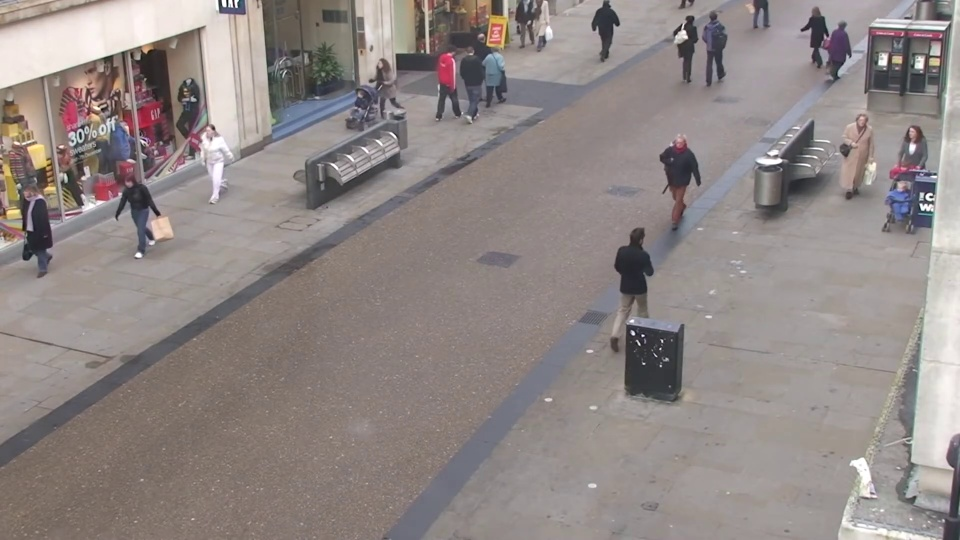pedestrian: (3, 180, 59, 291), (872, 176, 921, 290), (106, 171, 153, 279), (625, 211, 665, 334), (884, 123, 929, 223), (837, 112, 877, 209), (189, 120, 227, 214), (659, 131, 692, 231), (340, 86, 371, 172), (828, 16, 859, 89), (362, 55, 391, 133), (796, 3, 825, 72), (460, 40, 487, 114), (487, 39, 513, 113), (444, 42, 470, 116), (472, 31, 497, 103), (703, 8, 728, 76), (678, 11, 702, 79)
